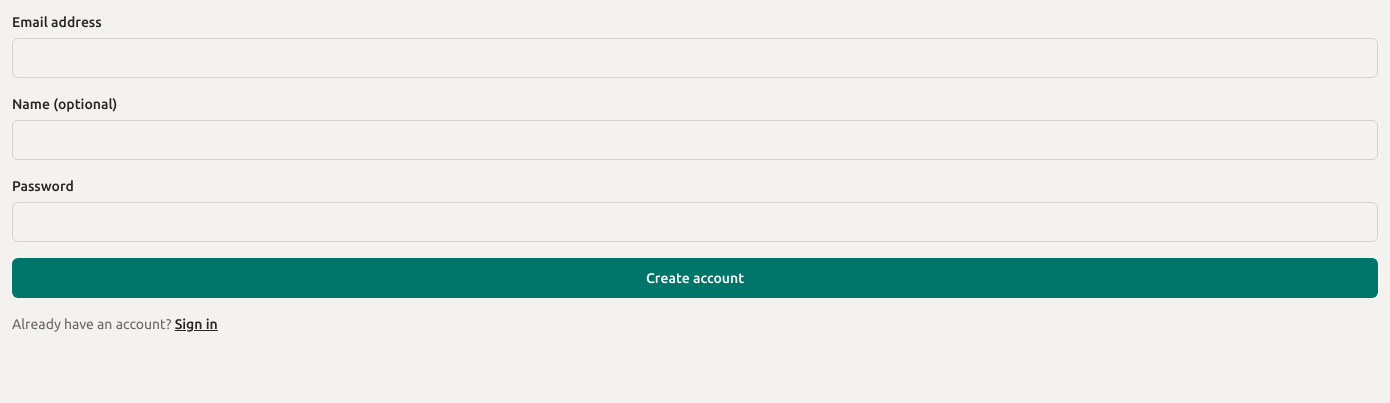
RegisterForm › weak/common password (400) → clear password-strength message
Type "new@example.com" into the field labelled "Email address".
click(695, 58); type("new@example.com")  # box [12,38,1378,78]
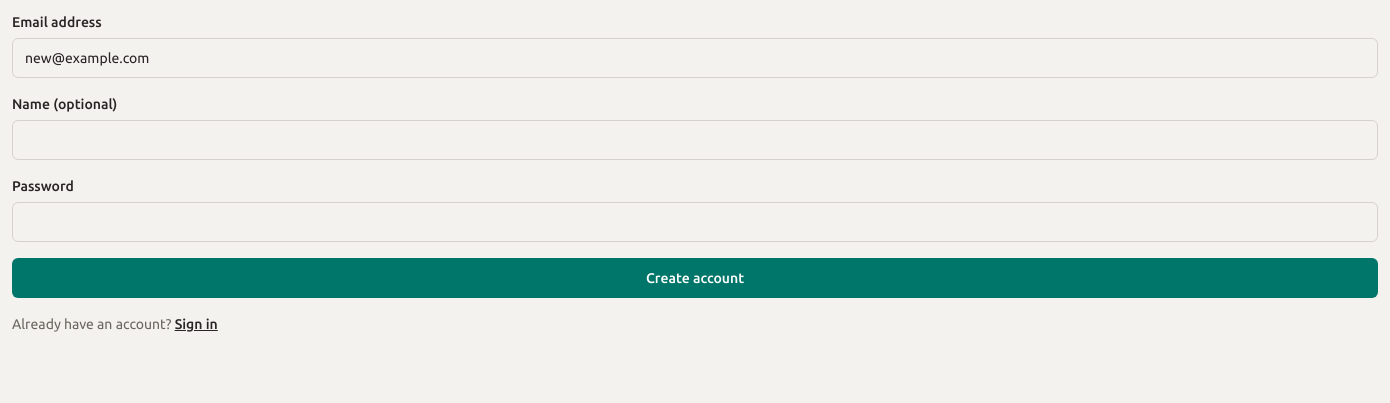
Type "a-strong-passphrase" into the password field labelled "Password".
click(695, 222); type("a-strong-passphrase")  # box [12,202,1378,242]
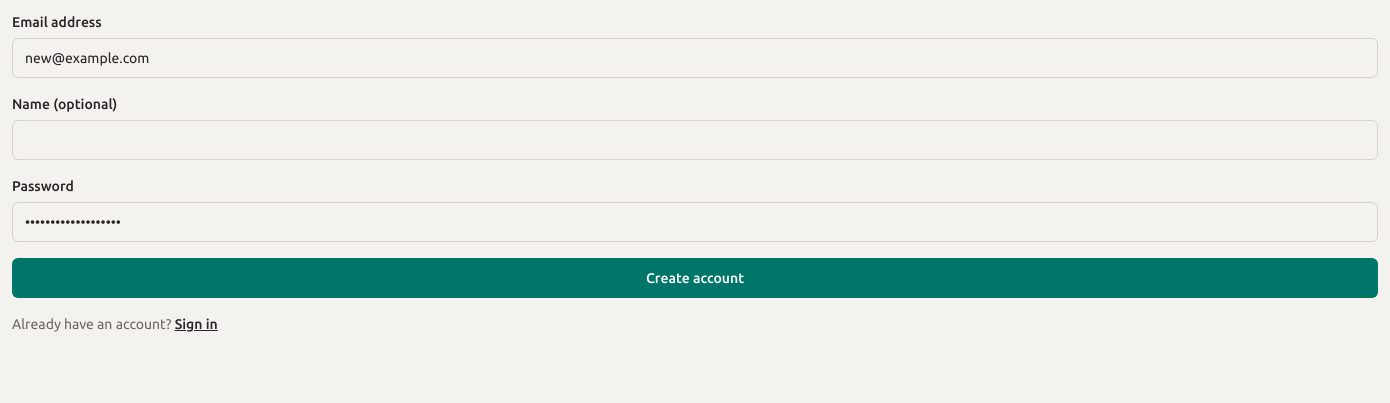
Click the button "Create account".
click(695, 278)  # box [12,258,1378,298]
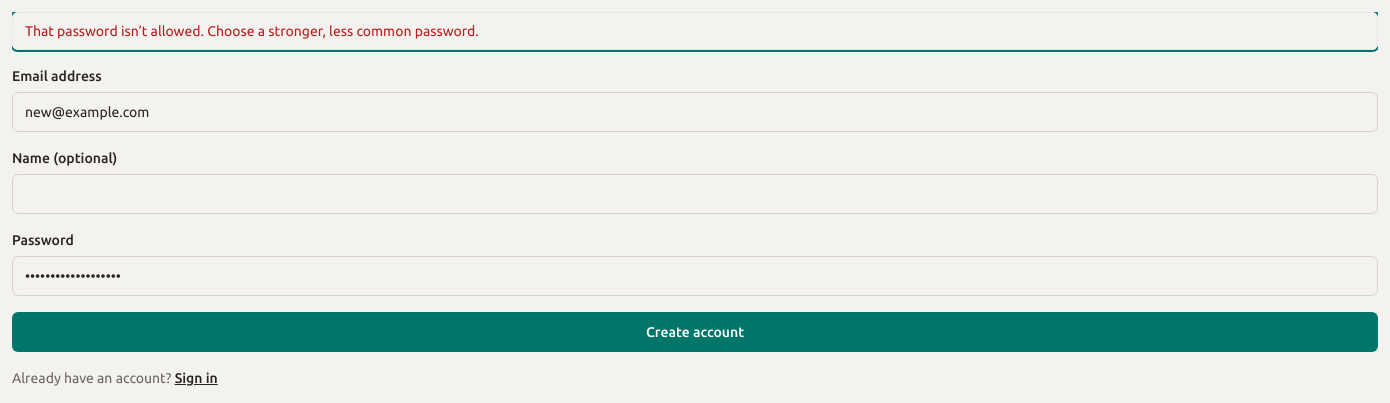
Check: the message reads "That password isn’t allowed. Choose a stronger, less common password.", box [25,23,479,39]
